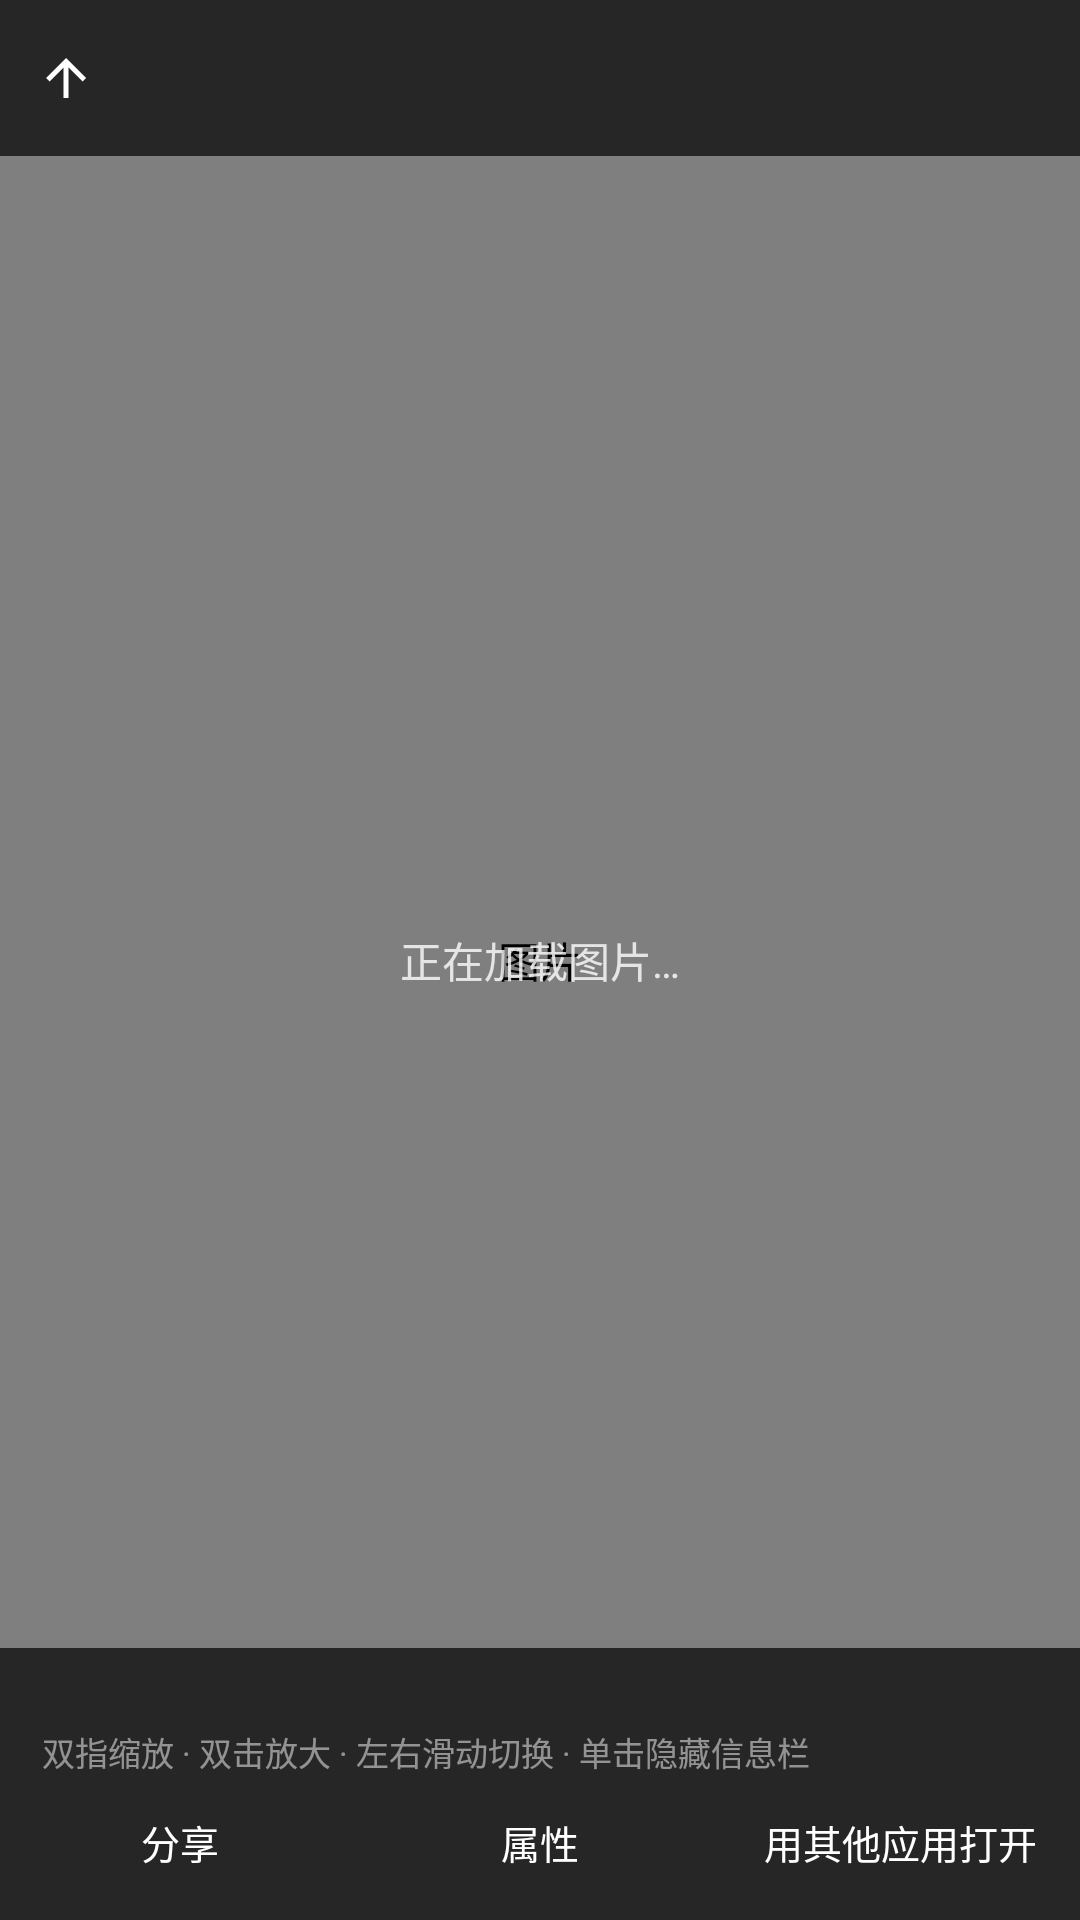

Icon bounding boxes for this 1080px x 1920px phone screenshot, format (x1, y1, x2, y2):
返回: (46, 58, 86, 98)
